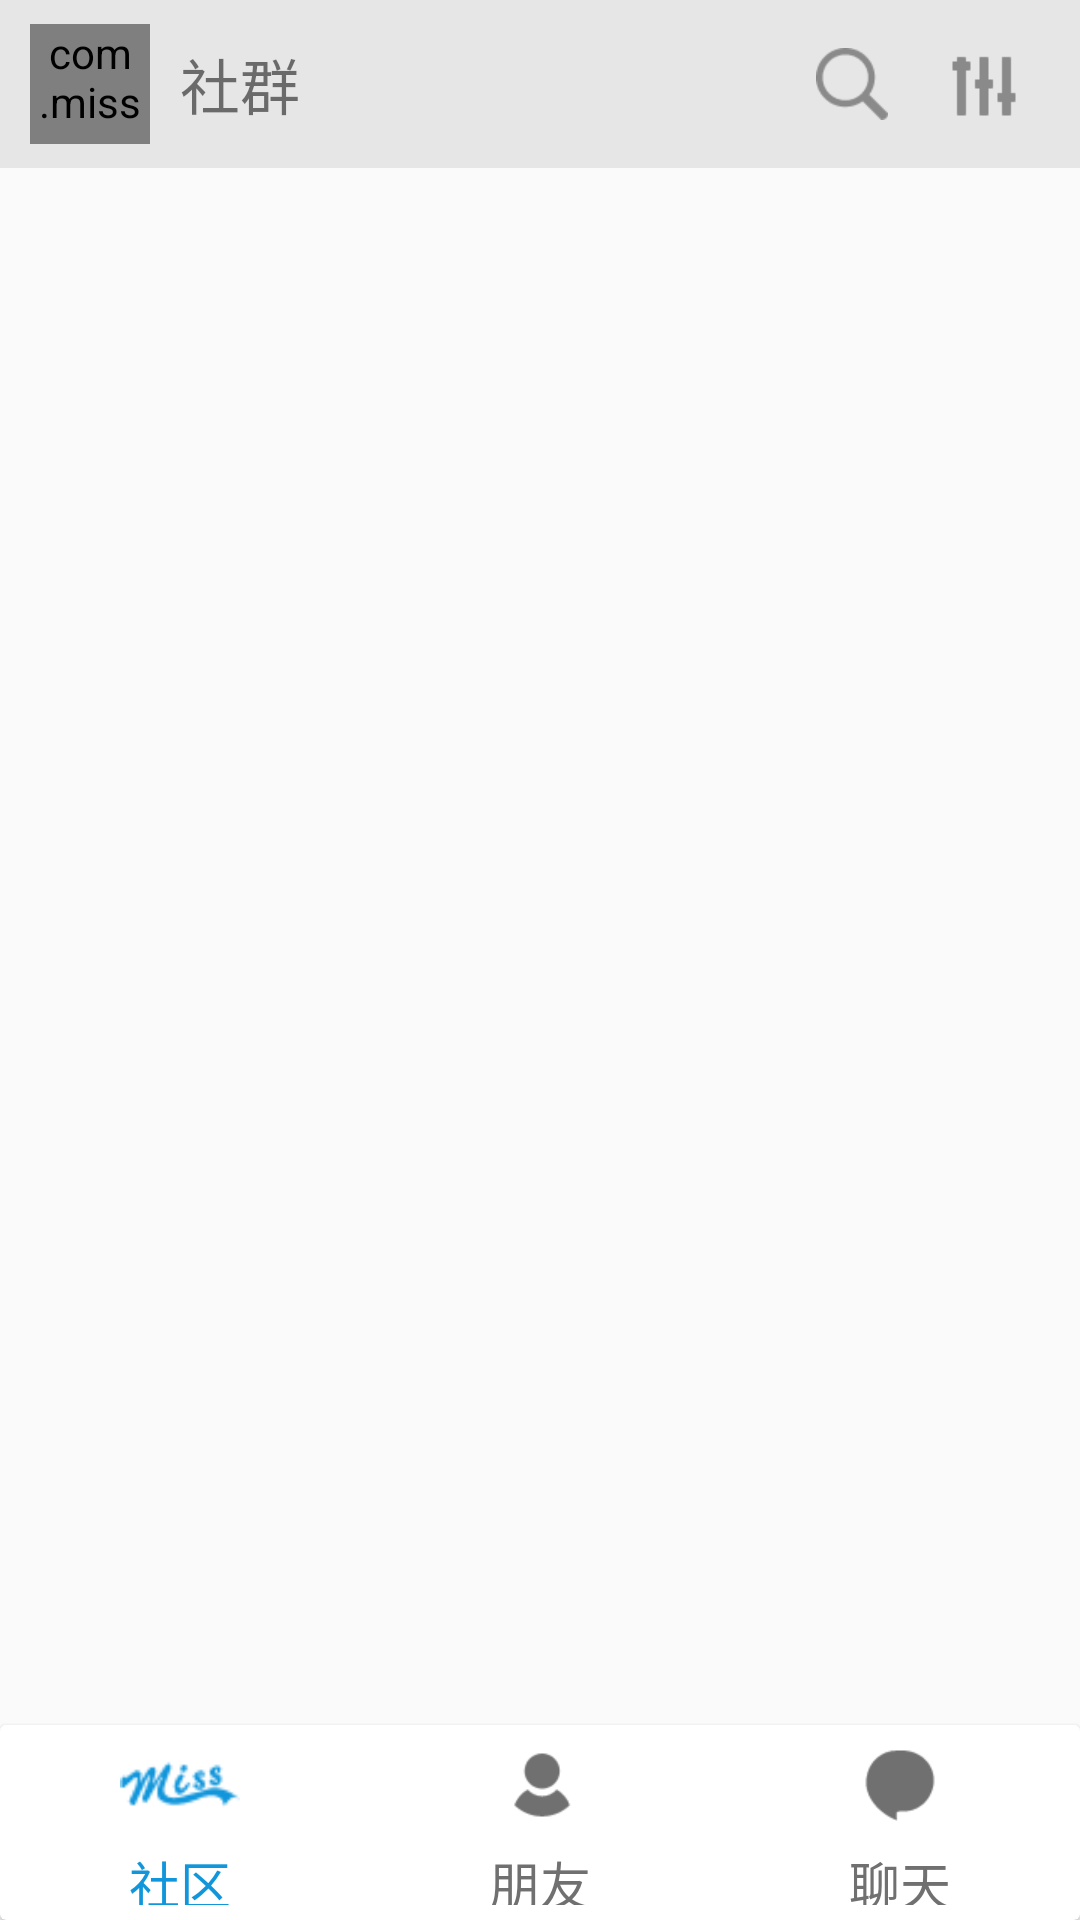

Point at icon controls on the screen. Image size 1080 × 1920, points as (x=x, y=y).
friend: (x=542, y=1785)
message: (x=900, y=1785)
search: (x=852, y=84)
set: (x=984, y=86)
